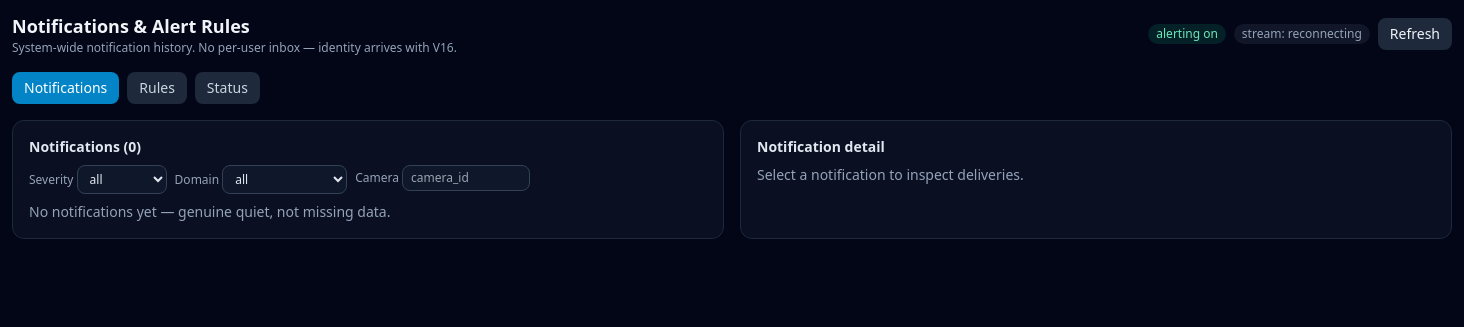
NotificationsPage › marks unconfigured channels honestly
What coordinates should you click on to do the following:
click the tab "status"
I would click on:
 (227, 88)
Its box is [195, 72, 260, 104].
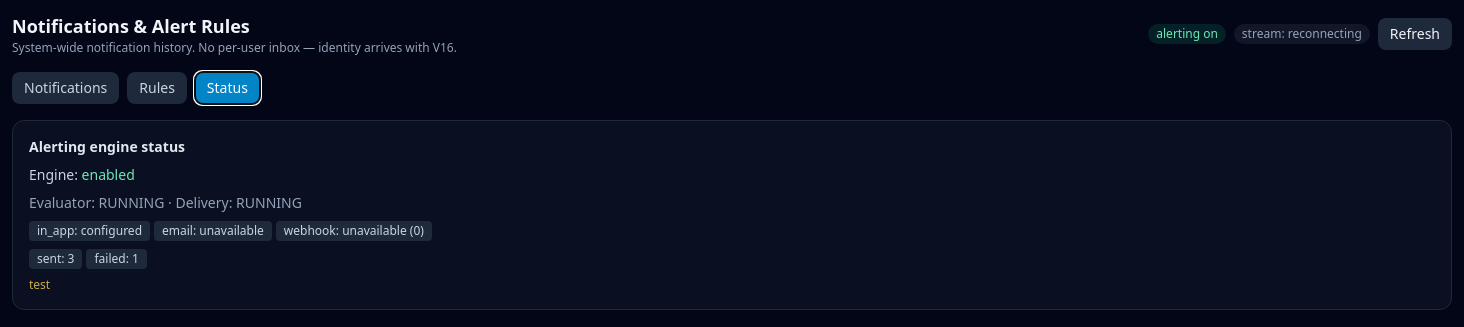
Result: the text "email: unavailable" is shown at [154, 221, 272, 241]
